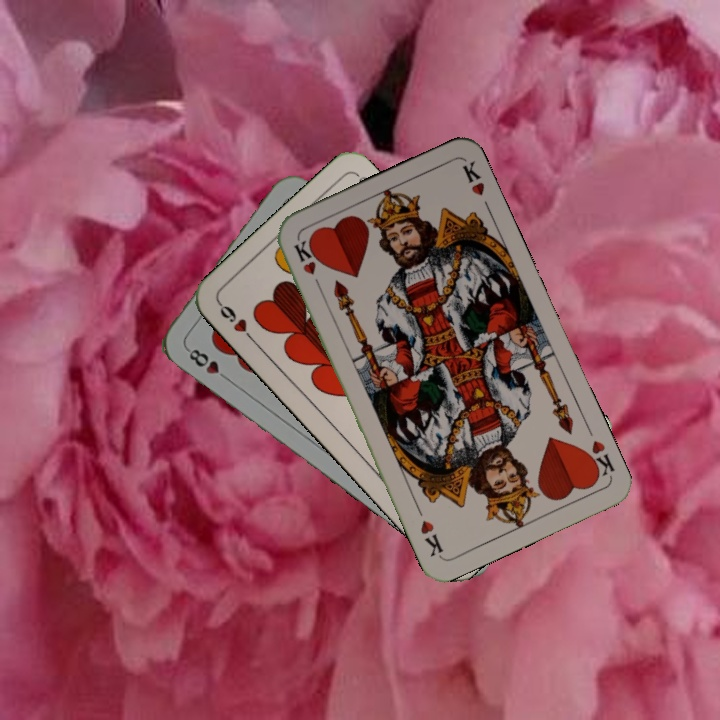H8: (182, 344, 233, 384)
H9: (215, 298, 259, 346)
HK: (290, 235, 325, 293), (580, 436, 618, 482)
